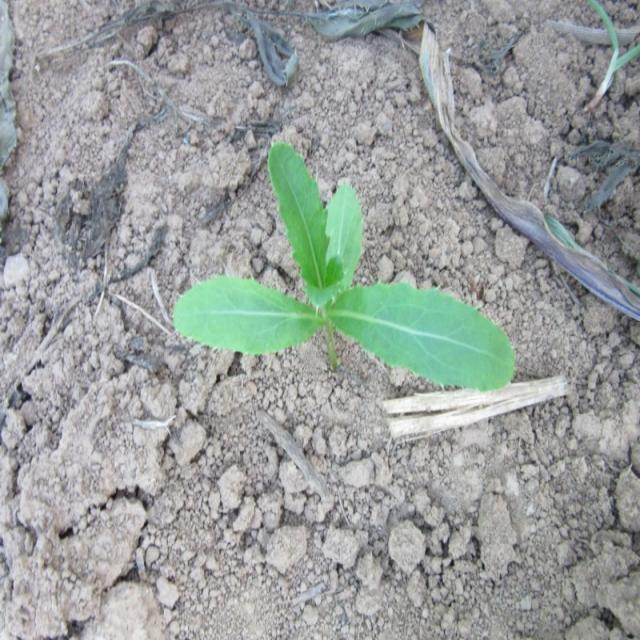cs: (174, 138, 517, 394)
